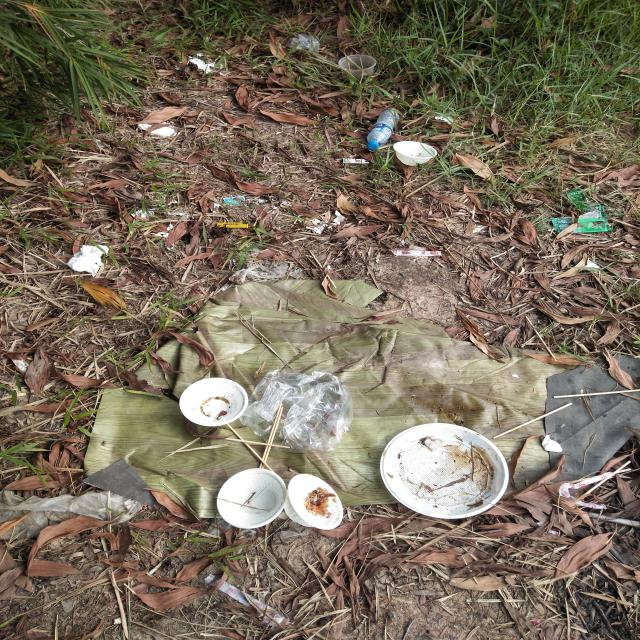litter: (380, 423, 504, 517), (373, 112, 398, 148)
